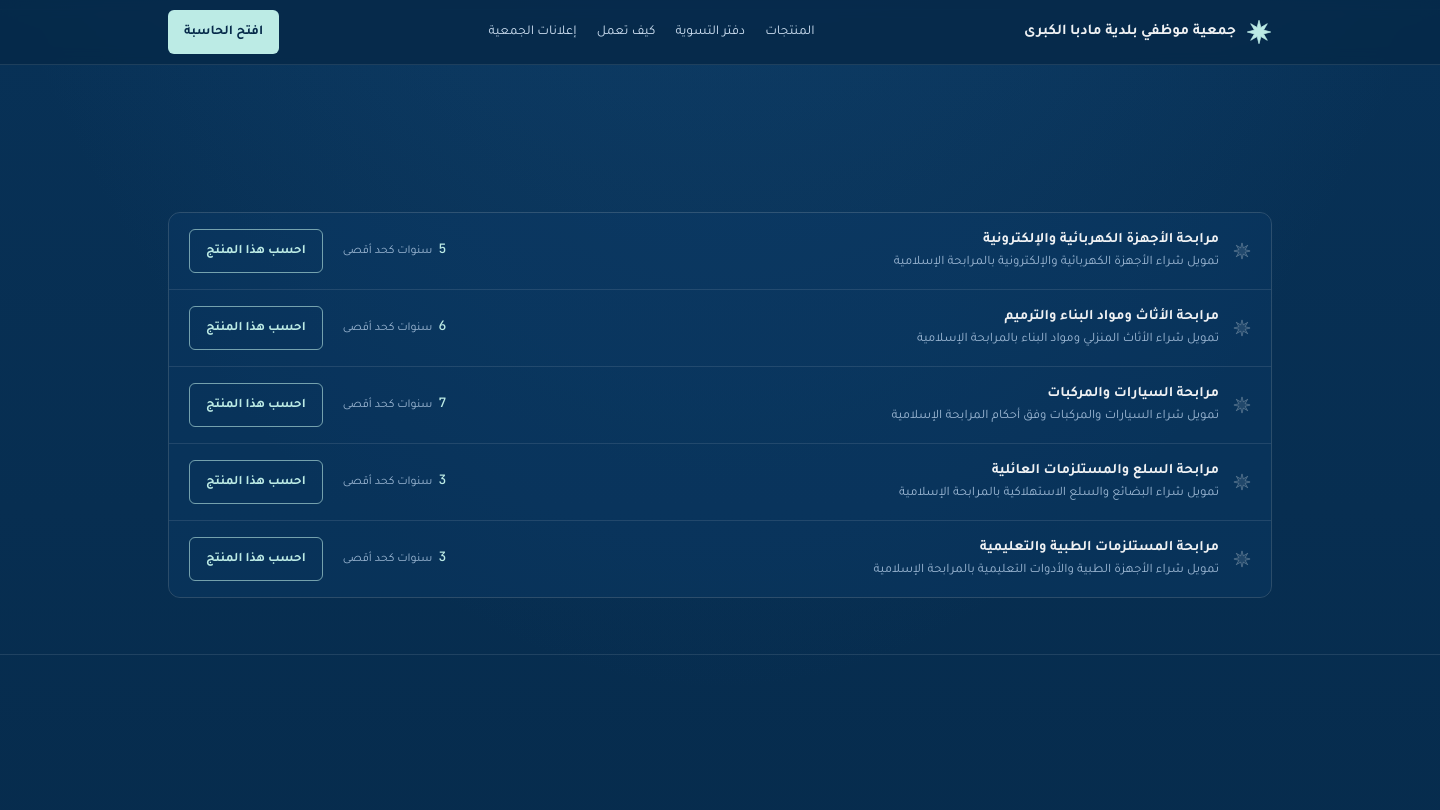
Test case: LandingPage › pre-selects a product from its ledger row
(page scrolled)
What coordinates should you click on to do the following:
click the button "احسب هذا المنتج" in the row of "مرابحة السيارات والمركبات"
I would click on:
 (256, 405)
Its box is [189,383,323,427].
(page scrolled)
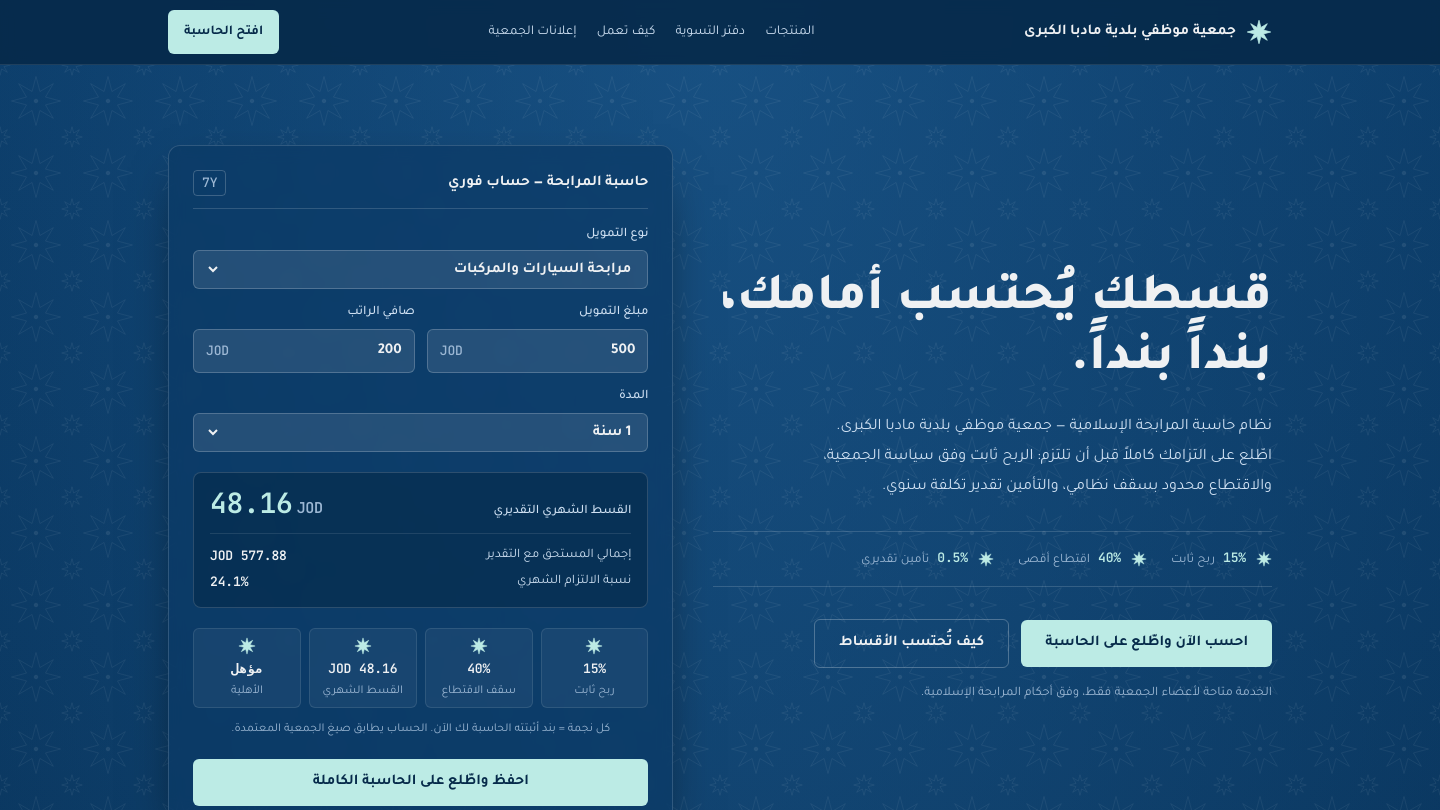
Check: the dropdown labelled "نوع التمويل" shows "مرابحة السيارات والمركبات", box [206,251,635,288]
